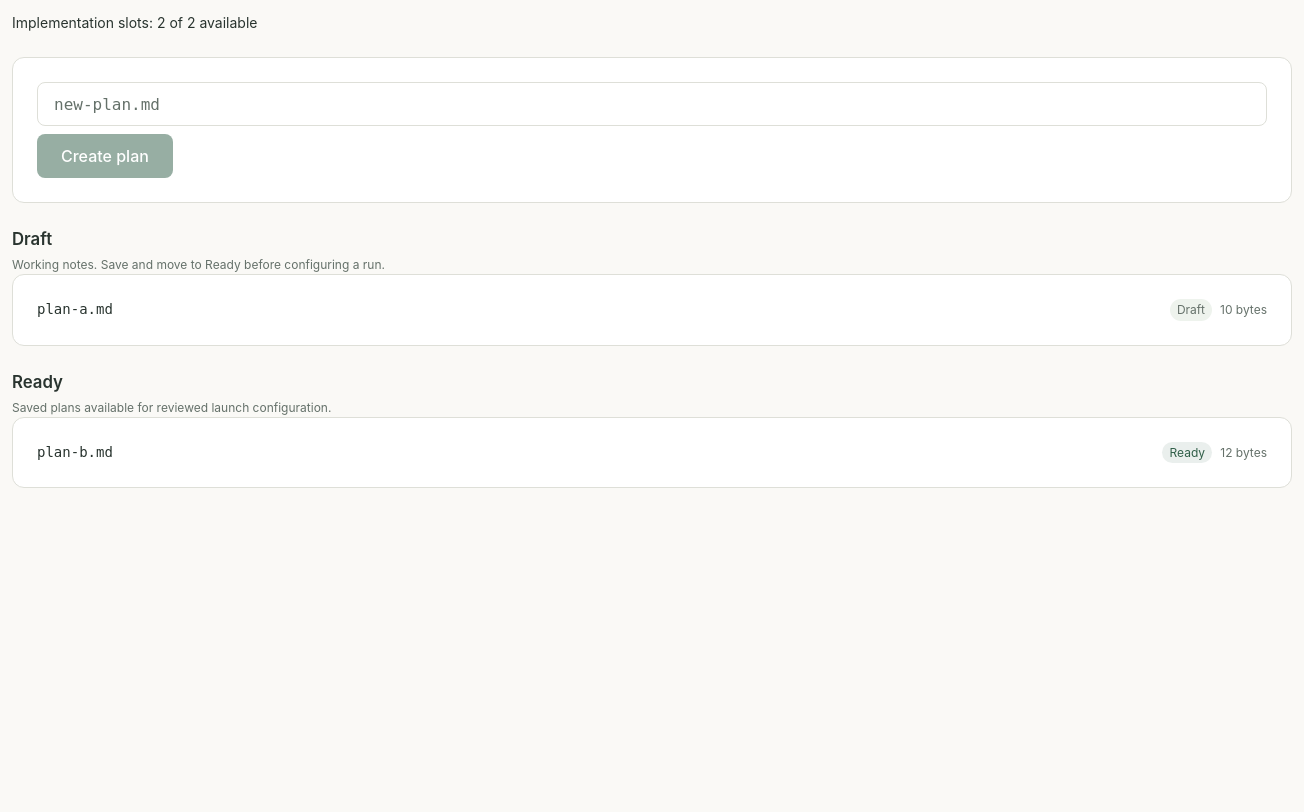
Test: PlanPanel › groups contained plans by lifecycle status and reads the selected plan
The width and height of the screenshot is (1304, 812).
Check: the heading "Draft" is shown, box [12,229,52,249]
Check: the heading "Ready" is shown, box [12,372,63,392]
Click the button "plan-a.md Draft 10 bytes". click: (75, 309)
box: [12,274,1292,346]
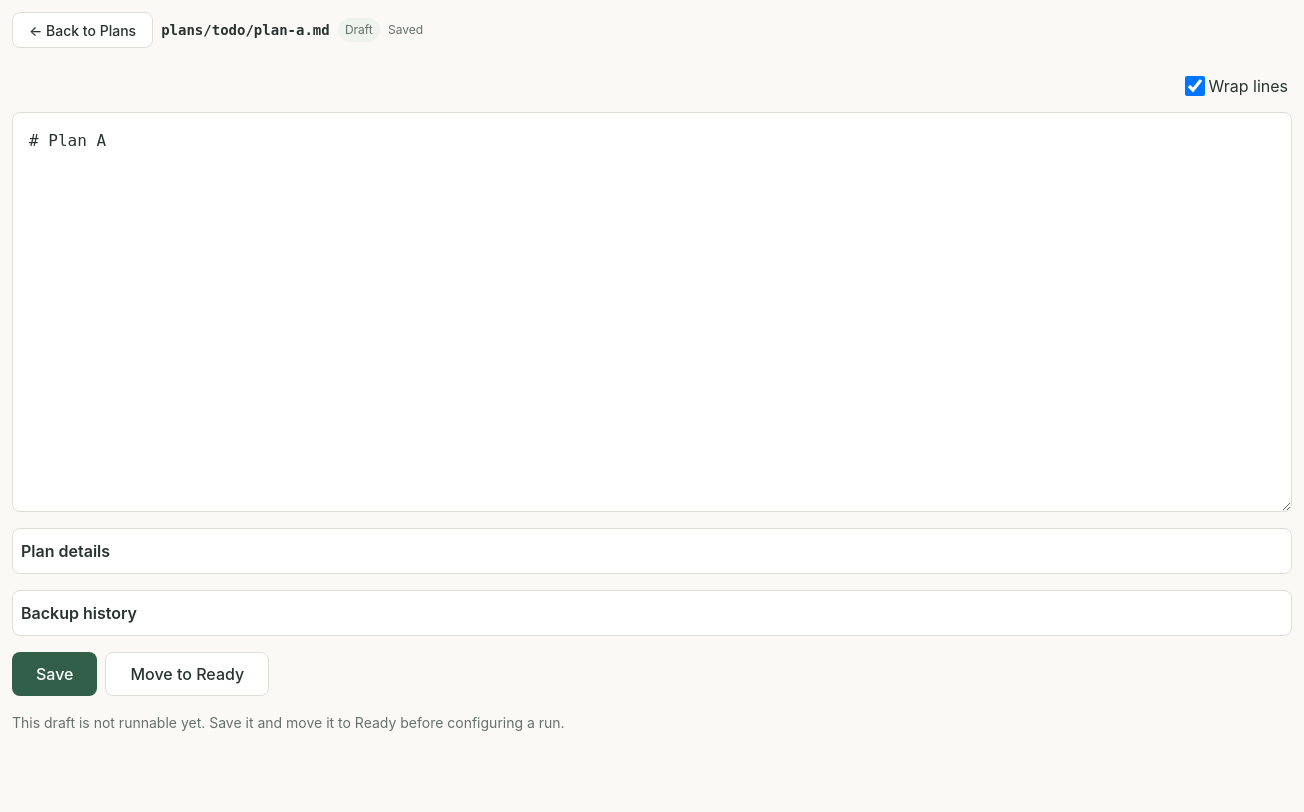
Check: the text box named "Plan content" is shown, box [12,112,1292,512]
Check: the text "plans/todo/plan-a.md" is shown 2 times
